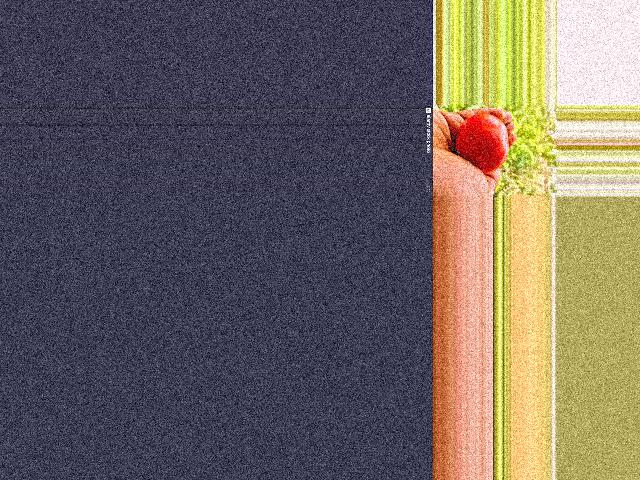tomato: (456, 114, 507, 172)
